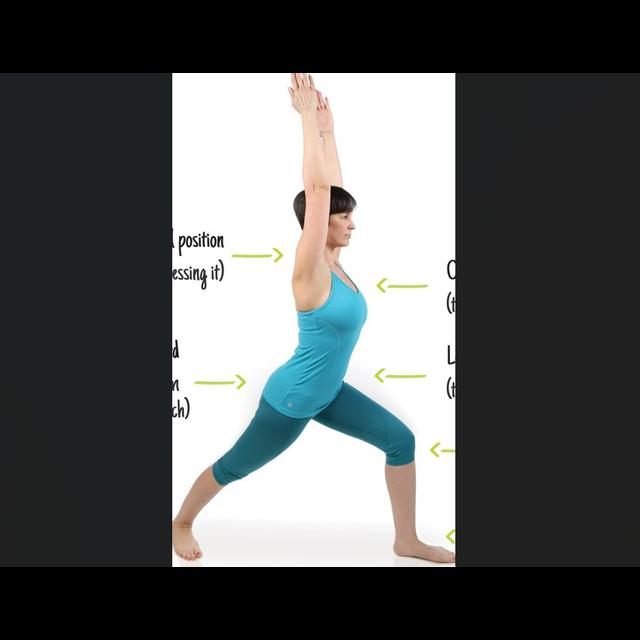Warrior_I: (172, 74, 453, 565)
